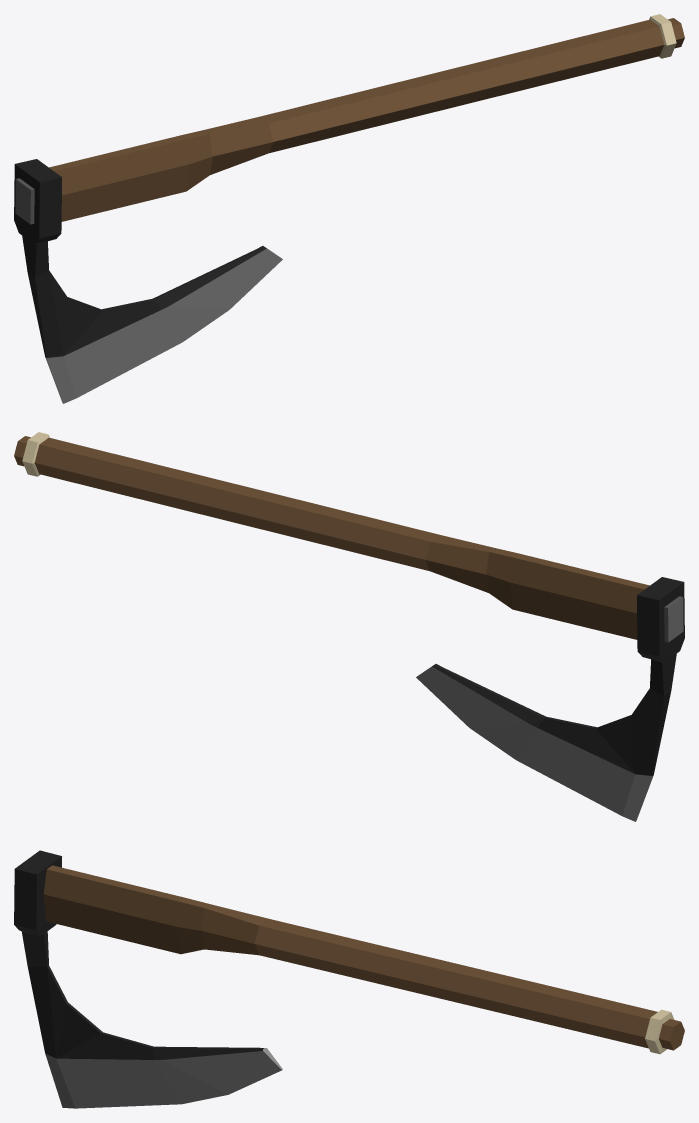
The model's file is Battle_Axe.fbx.
3 renders of one model, top to bottom at view 1: azimuth 30°, elevation 25°; view 2: azimuth 150°, elevation 25°; view 3: azimuth 330°, elevation 25°, orthographic.
Parts seen in each view (by area): view 1: Masakari; view 2: Masakari; view 3: Masakari.
Part boxes in pixels (left/top/right/bottom): Masakari: left=14, top=14, right=684, bottom=403; Masakari: left=14, top=432, right=684, bottom=821; Masakari: left=14, top=850, right=684, bottom=1108.
Bounding box in the file's own units: 114 × 39.66 × 7.57.
